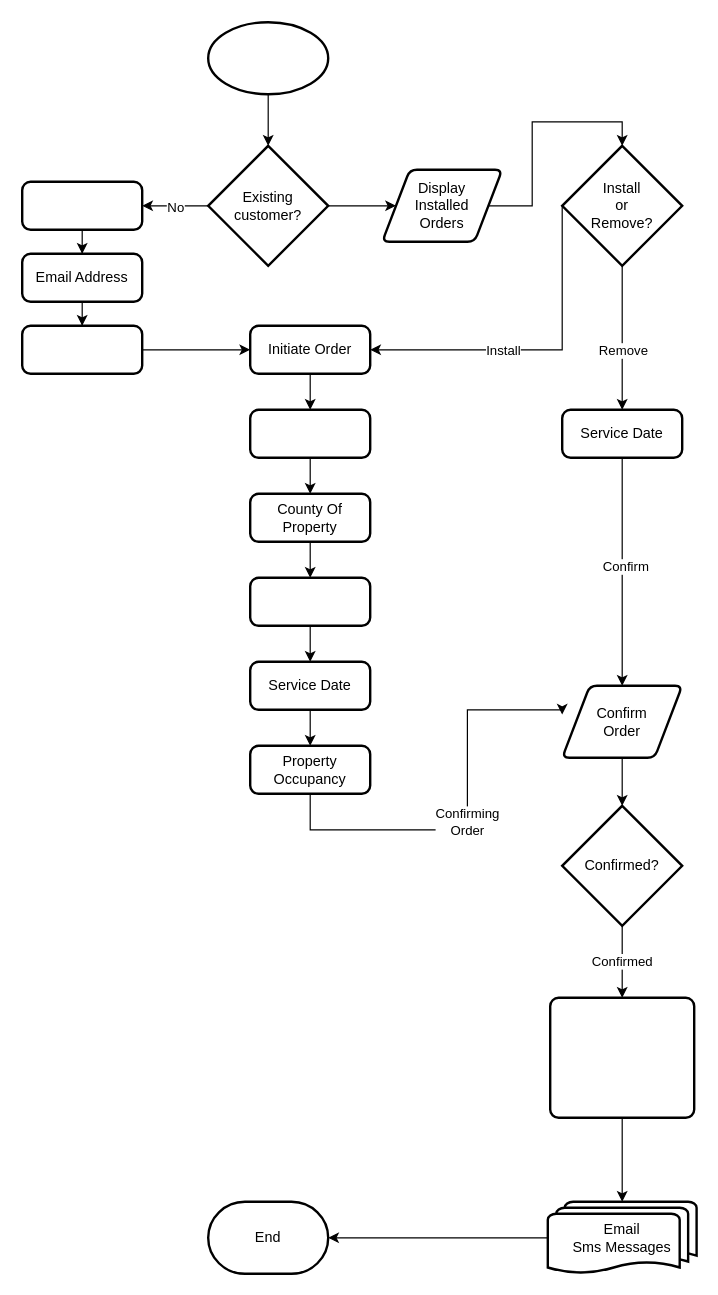
This 718x1295 diagram has some shape labels left out. The centre of each missing label's shape, as x and y in pixels:
"Full Name" goes at point 81,205.
"Property Address" goes at point 309,433.
"Real Estate Brokerage" goes at point 81,349.
"Save Order Send Notifications Send Order Emails" goes at point 621,1057.
"Service Requested" goes at point 309,601.
"SSD" goes at point 267,57.
